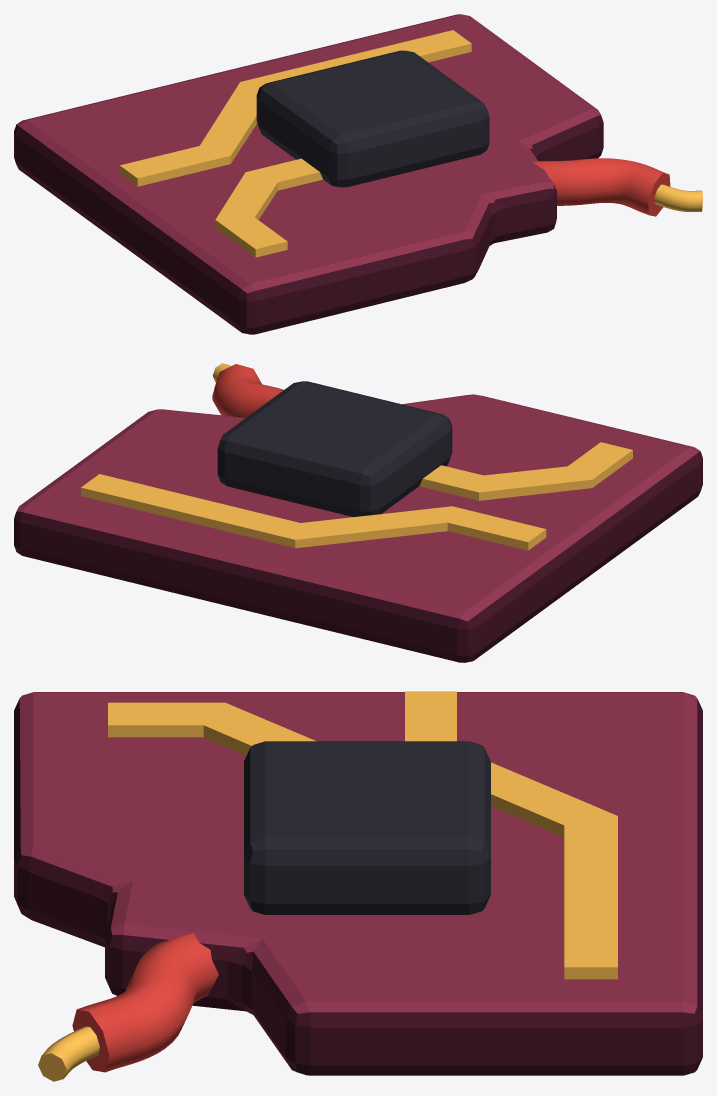
File: scrap.glb
3 views of the same model, one above another, from view 1: azimuth 30°, elevation 25°; view 2: azimuth 150°, elevation 25°; view 3: azimuth 270°, elevation 25° (orthographic). The views are drawn at different scales.
Visible parts, largest first — view 1: Обломки · плата, Микросхема, Широкая дорожка 1, Оборванный красный провод, Широкая дорожка 2, Открытый медный конец; view 2: Обломки · плата, Микросхема, Широкая дорожка 1, Широкая дорожка 2, Оборванный красный провод; view 3: Обломки · плата, Микросхема, Широкая дорожка 1, Оборванный красный провод, Широкая дорожка 2, Открытый медный конец.
Boxes of the visible parts, x1,y1,x2,y2 form: Обломки · плата: [14, 14, 603, 334]; Микросхема: [256, 50, 489, 187]; Широкая дорожка 1: [119, 30, 471, 186]; Оборванный красный провод: [533, 158, 670, 216]; Широкая дорожка 2: [215, 158, 322, 257]; Открытый медный конец: [654, 184, 702, 211]; Обломки · плата: [14, 394, 702, 662]; Микросхема: [217, 381, 452, 516]; Широкая дорожка 1: [81, 474, 546, 550]; Широкая дорожка 2: [419, 442, 632, 500]; Оборванный красный провод: [212, 364, 283, 417]; Обломки · плата: [14, 692, 702, 1075]; Микросхема: [244, 741, 490, 914]; Широкая дорожка 1: [405, 691, 617, 979]; Оборванный красный провод: [72, 933, 218, 1072]; Широкая дорожка 2: [108, 702, 316, 755]; Открытый медный конец: [38, 1026, 99, 1081].
Bounding box in the file's own units: 0.8899 × 0.1811 × 0.77.
